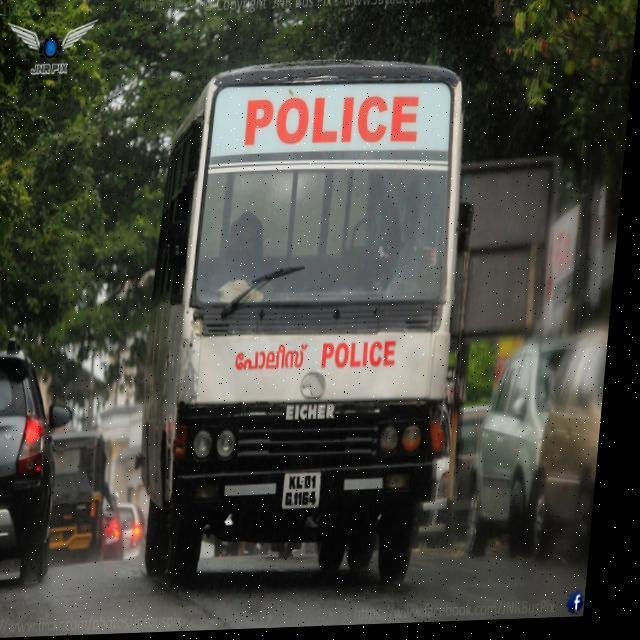Ambulance: (0, 42, 630, 624), (132, 56, 489, 600), (0, 506, 602, 638), (472, 334, 590, 566), (0, 335, 87, 594), (532, 329, 614, 570), (47, 427, 142, 567), (214, 211, 280, 311)
